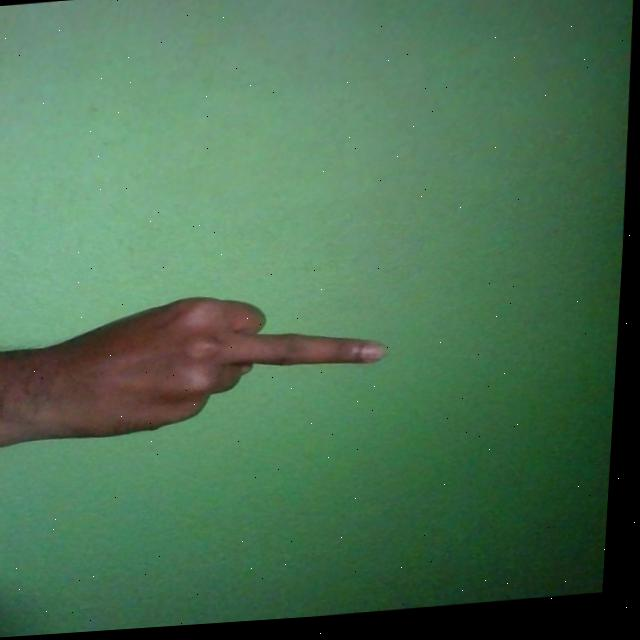Middle Finger: (0, 286, 397, 447)
